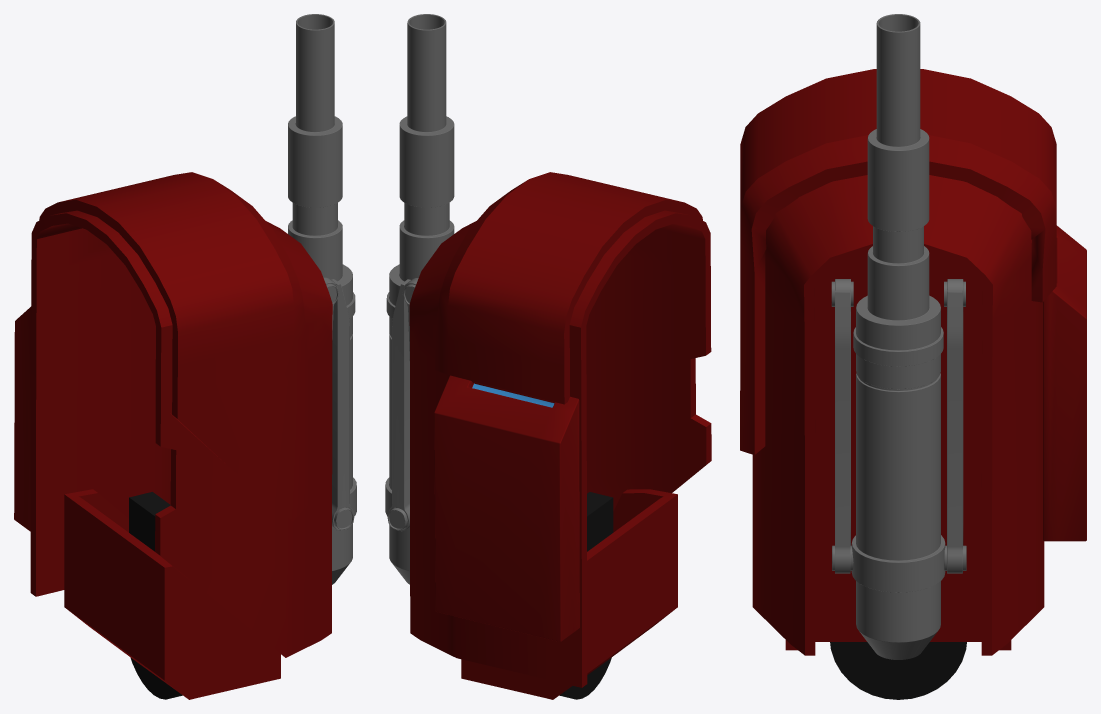
File: l_upperarm.obj
3 views of the same model, side by side, from view 1: azimuth 30°, elevation 25°; view 2: azimuth 150°, elevation 25°; view 3: azimuth 270°, elevation 25° (orthographic). The views are drawn at different scales.
Visible parts, largest first — view 1: l_upperarm; view 2: l_upperarm; view 3: l_upperarm.
Boxes of the visible parts, <box> form: l_upperarm: <box>14,14,356,699</box>; l_upperarm: <box>385,14,711,699</box>; l_upperarm: <box>740,14,1086,699</box>.
Size of the model in its own units: 0.6206 by 1.47 by 0.6479.
